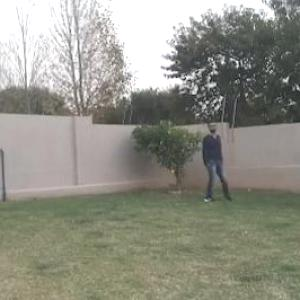follow: (203, 117, 224, 204)
